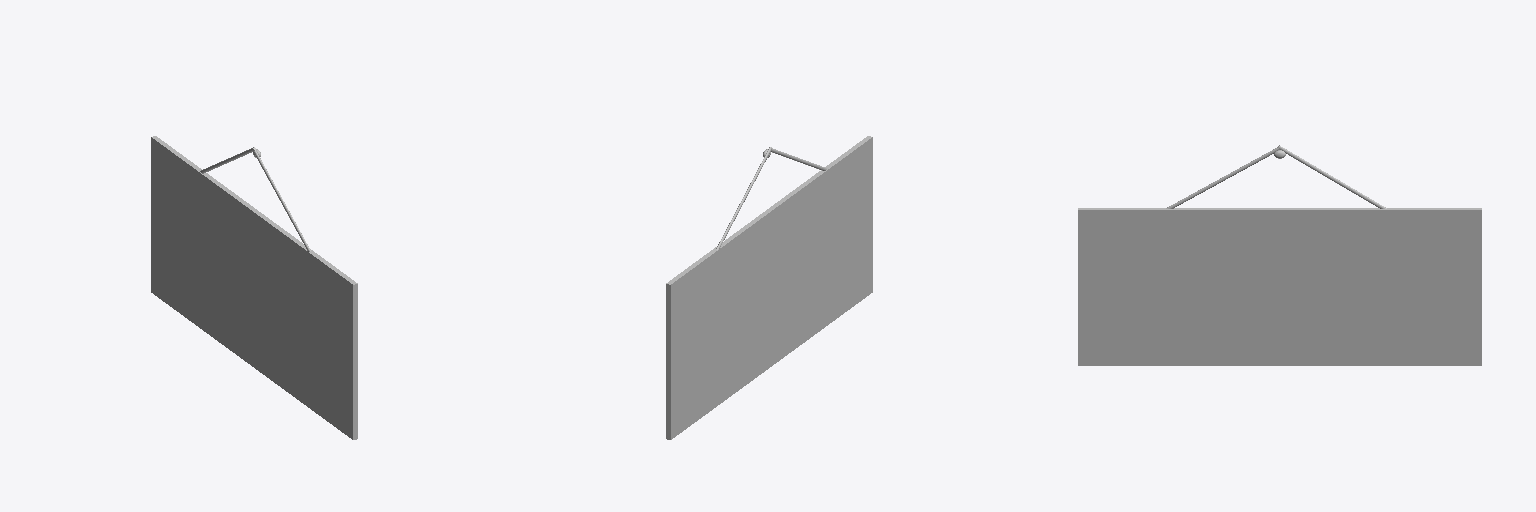
File: Cuadro3.obj
The picture shows the model from 3 angles: view 1: azimuth 30°, elevation 25°; view 2: azimuth 150°, elevation 25°; view 3: azimuth 270°, elevation 25°; orthographic projection.
Visible parts, largest first — view 1: Plano; view 2: Plano; view 3: Plano.
Boxes of the visible parts, <box> form: Plano: <box>151,136,357,439</box>; Plano: <box>666,136,872,439</box>; Plano: <box>1078,145,1481,365</box>.
Size of the model in its own units: 0.1283 by 3.45 by 5.78.